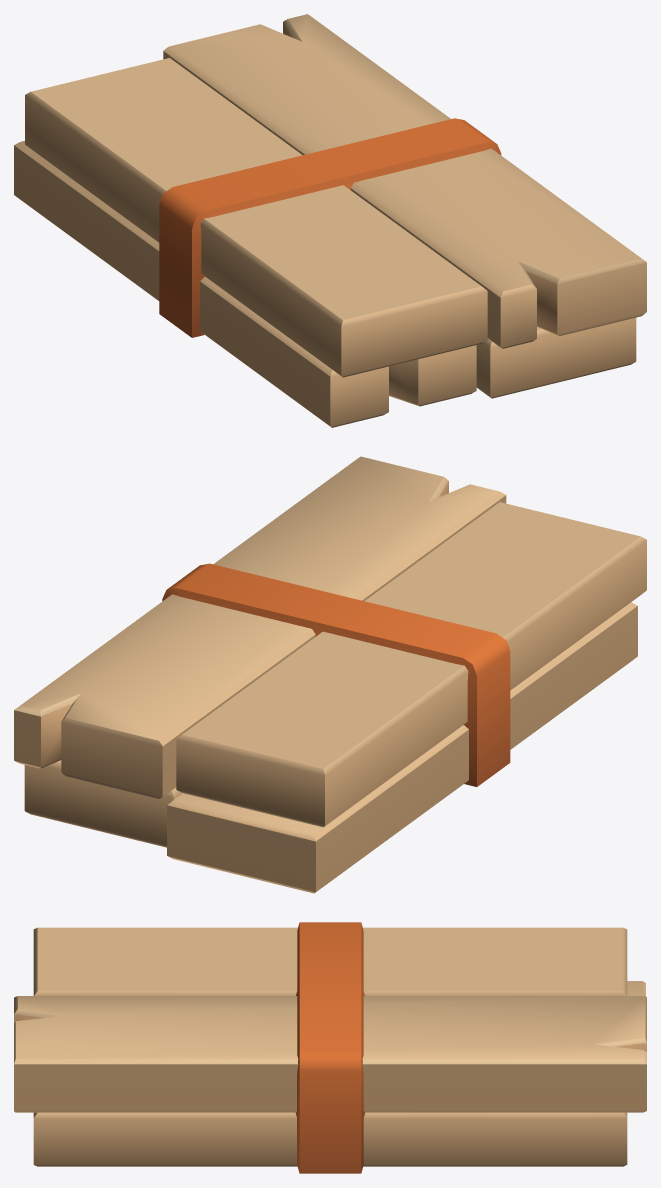
The model's file is planks.glb.
The picture shows the model from 3 angles, top to bottom: view 1: azimuth 30°, elevation 25°; view 2: azimuth 150°, elevation 25°; view 3: azimuth 270°, elevation 25°; orthographic projection. The views are drawn at different scales.
Visible parts, largest first — view 1: Wood_Planks_Stack_Small; view 2: Wood_Planks_Stack_Small; view 3: Wood_Planks_Stack_Small.
Part boxes in pixels (bbox=[...]): Wood_Planks_Stack_Small: bbox=[14, 14, 646, 427]; Wood_Planks_Stack_Small: bbox=[14, 456, 646, 893]; Wood_Planks_Stack_Small: bbox=[14, 922, 646, 1173].
Bounding box in the file's own units: 0.8462 × 0.3233 × 1.6.
Materials: 1 (1 with a texture image).
